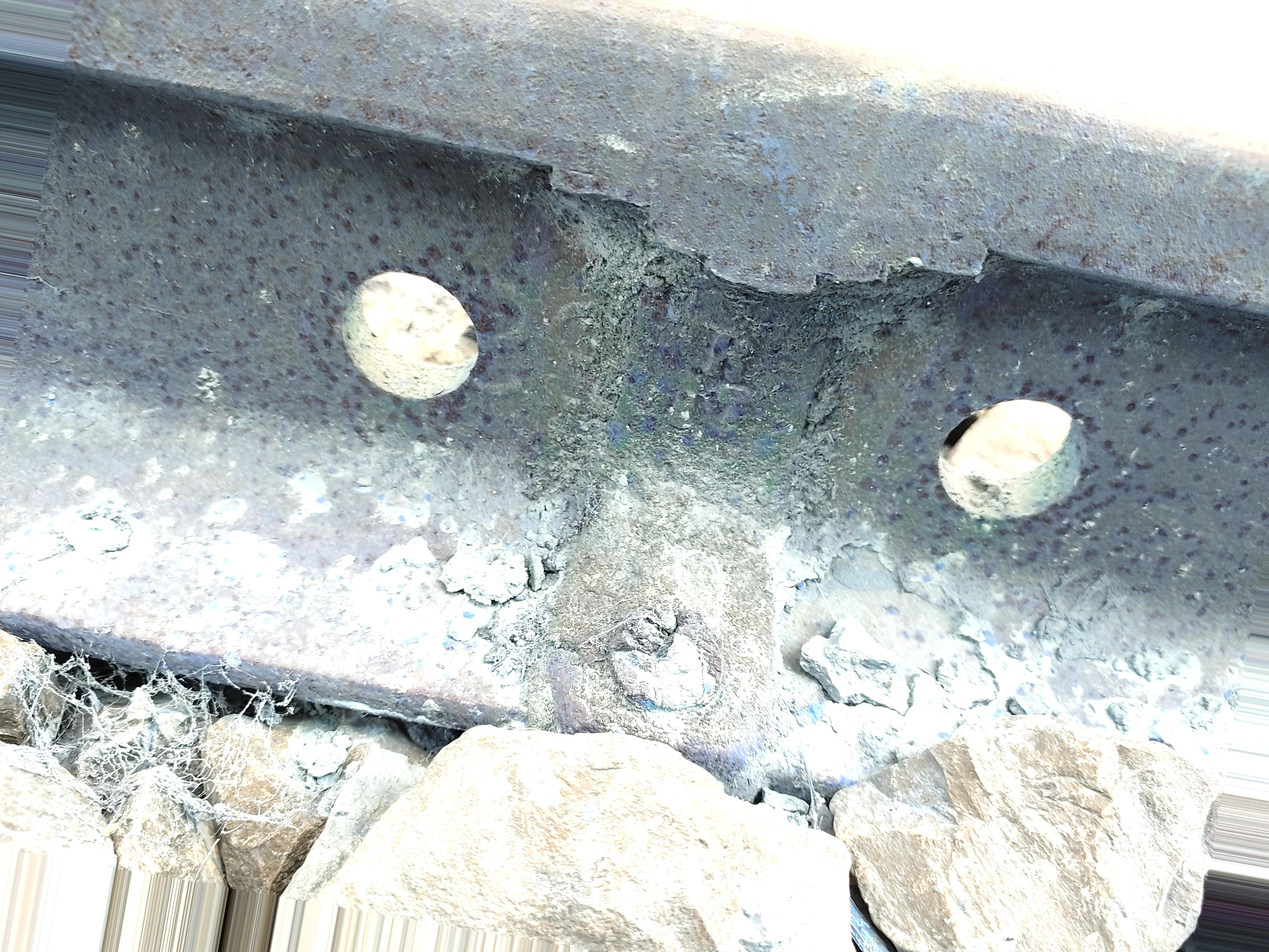tracks_fault: (305, 121, 1114, 654)
